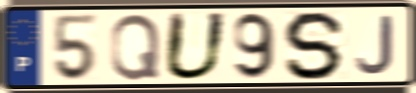5: (51, 13, 99, 83)
9: (232, 11, 278, 81)
J: (354, 14, 396, 76)
Q: (109, 12, 162, 82)
S: (282, 9, 350, 82)
U: (160, 10, 231, 83)
